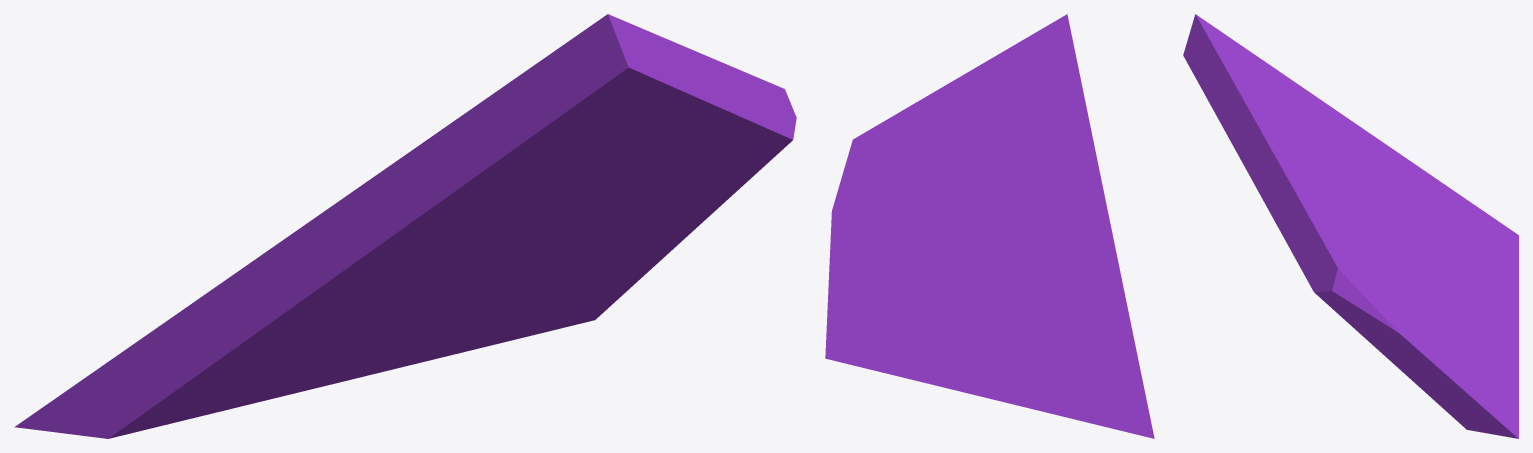
File: Window_123_0_chunks.fbx
The picture shows the model from 3 angles, left to right: view 1: azimuth 30°, elevation 25°; view 2: azimuth 150°, elevation 25°; view 3: azimuth 270°, elevation 25°; orthographic projection. The views are drawn at different scales.
Visible parts, largest first — view 1: Window_123_0_7, Window_123_0_11, Window_123_0_4, Window_123_0_1, Window_123_0_2, Window_123_0_3, Window_123_0_12, Window_123_0_6, Window_123_0_8, Window_123_0_10, Window_123_0_0, Window_123_0_5; view 2: Window_123_0_0, Window_123_0_7, Window_123_0_4, Window_123_0_11, Window_123_0_3, Window_123_0_5, Window_123_0_12, Window_123_0_9, Window_123_0_8, Window_123_0_1, Window_123_0_6; view 3: Window_123_0_0, Window_123_0_7, Window_123_0_1, Window_123_0_8, Window_123_0_4, Window_123_0_11, Window_123_0_6, Window_123_0_3, Window_123_0_5, Window_123_0_12, Window_123_0_9.
Part boxes in pixels (box(x1,y1,x2,y2)): Window_123_0_7: box(447, 14, 710, 205); Window_123_0_11: box(14, 288, 269, 438); Window_123_0_4: box(355, 126, 576, 289); Window_123_0_1: box(505, 145, 787, 338); Window_123_0_2: box(297, 197, 438, 330); Window_123_0_3: box(268, 269, 535, 399); Window_123_0_12: box(215, 190, 356, 345); Window_123_0_6: box(604, 89, 796, 211); Window_123_0_8: box(667, 39, 783, 142); Window_123_0_10: box(220, 322, 360, 411); Window_123_0_0: box(441, 304, 519, 357); Window_123_0_5: box(551, 184, 625, 221); Window_123_0_0: box(825, 209, 965, 392); Window_123_0_7: box(956, 14, 1090, 166); Window_123_0_4: box(957, 129, 1104, 284); Window_123_0_11: box(1035, 295, 1154, 438); Window_123_0_3: box(960, 277, 1025, 407); Window_123_0_5: box(909, 137, 1034, 219); Window_123_0_12: box(1032, 195, 1124, 312); Window_123_0_9: box(1007, 262, 1076, 409); Window_123_0_8: box(854, 56, 995, 155); Window_123_0_1: box(828, 169, 906, 285); Window_123_0_6: box(844, 139, 923, 209); Window_123_0_0: box(1382, 241, 1518, 438); Window_123_0_7: box(1183, 14, 1323, 185); Window_123_0_1: box(1318, 273, 1488, 433); Window_123_0_8: box(1243, 99, 1337, 266); Window_123_0_4: box(1283, 74, 1426, 276); Window_123_0_11: box(1410, 161, 1518, 308); Window_123_0_6: box(1290, 224, 1382, 297); Window_123_0_3: box(1424, 247, 1518, 351); Window_123_0_5: box(1316, 143, 1382, 270); Window_123_0_12: box(1333, 108, 1432, 210); Window_123_0_9: box(1401, 210, 1518, 314).
Size of the model in its own units: 1075 by 760 by 653.
